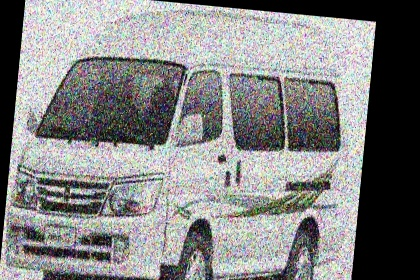van: (0, 0, 365, 280)
